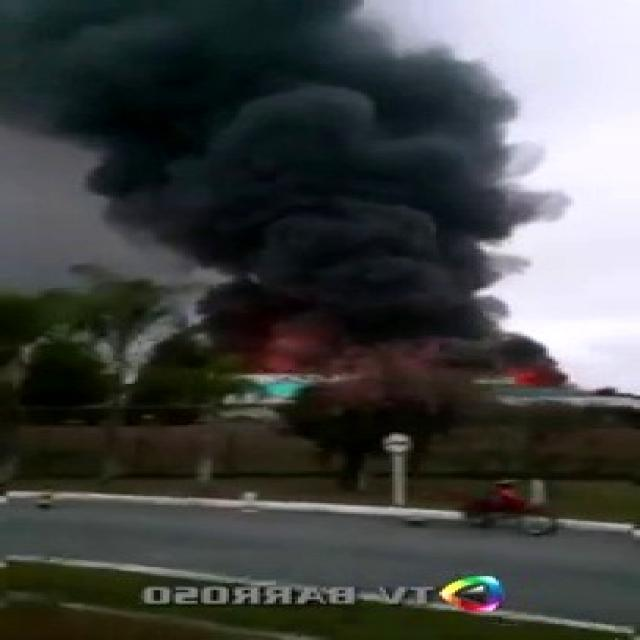Smoke: (0, 0, 558, 354)
